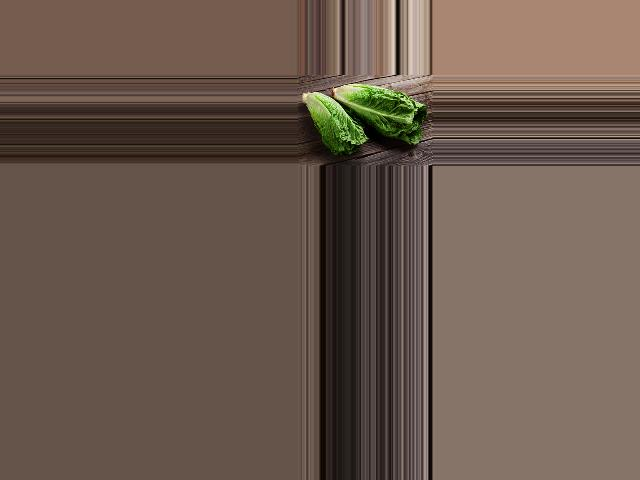lettuce: (297, 89, 369, 161)
